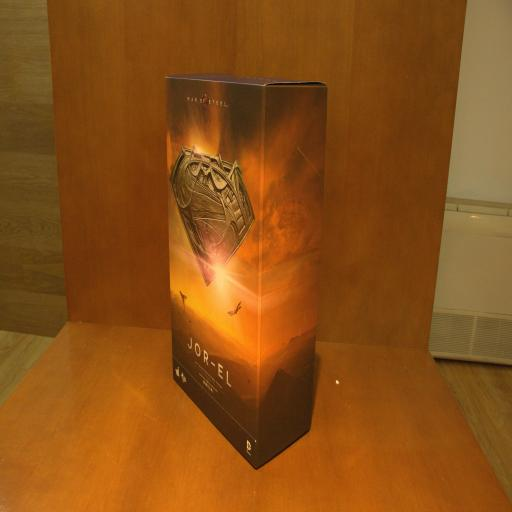superman: (164, 74, 329, 466)
